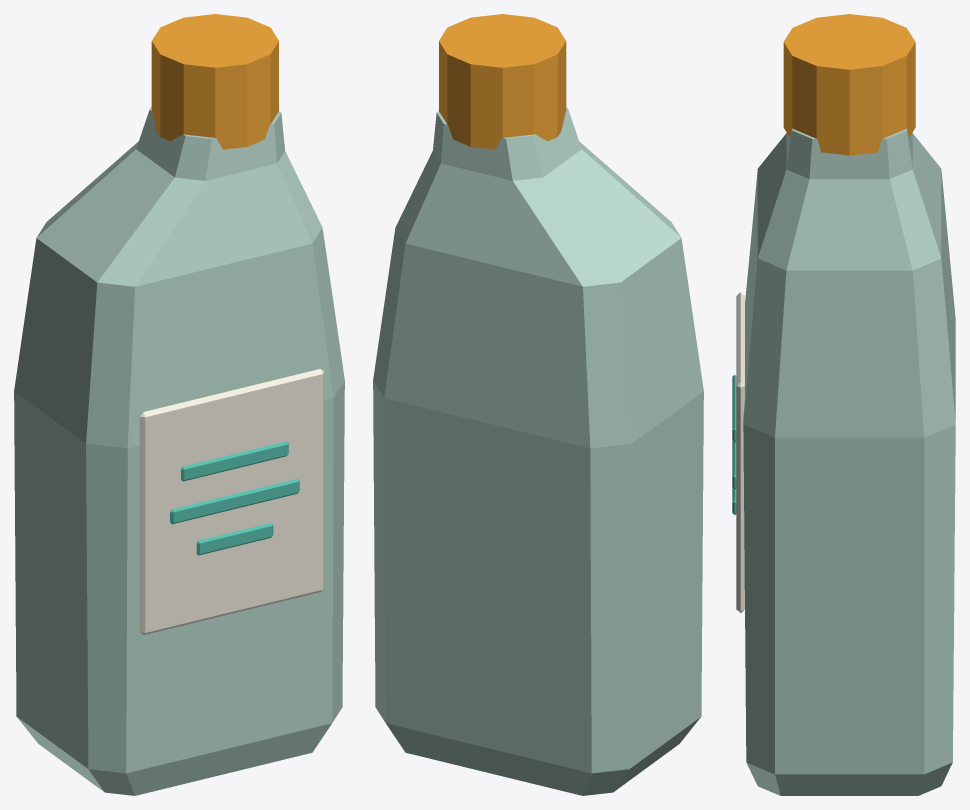
The model's file is Supplies-CleanerBottle.fbx.
The picture shows the model from 3 angles, left to right: view 1: azimuth 30°, elevation 25°; view 2: azimuth 150°, elevation 25°; view 3: azimuth 270°, elevation 25°; orthographic projection. The views are drawn at different scales.
Parts seen in each view (by area): view 1: Detergent Bottle, Label Plate, Cap, Label Graphic.001, Label Graphic, Label Graphic.002; view 2: Detergent Bottle, Cap; view 3: Detergent Bottle, Cap, Label Plate.
Part boxes in pixels (bbox=[...]): Detergent Bottle: bbox=[14, 107, 344, 795]; Label Plate: bbox=[139, 369, 324, 635]; Cap: bbox=[151, 14, 278, 149]; Label Graphic.001: bbox=[170, 478, 299, 524]; Label Graphic: bbox=[181, 441, 288, 481]; Label Graphic.002: bbox=[196, 523, 273, 555]; Detergent Bottle: bbox=[373, 107, 703, 795]; Cap: bbox=[439, 14, 566, 149]; Detergent Bottle: bbox=[743, 128, 955, 795]; Cap: bbox=[783, 14, 915, 155]; Label Plate: bbox=[736, 292, 744, 612].
Size of the model in its own units: 0.108 by 0.276 by 0.0779.
